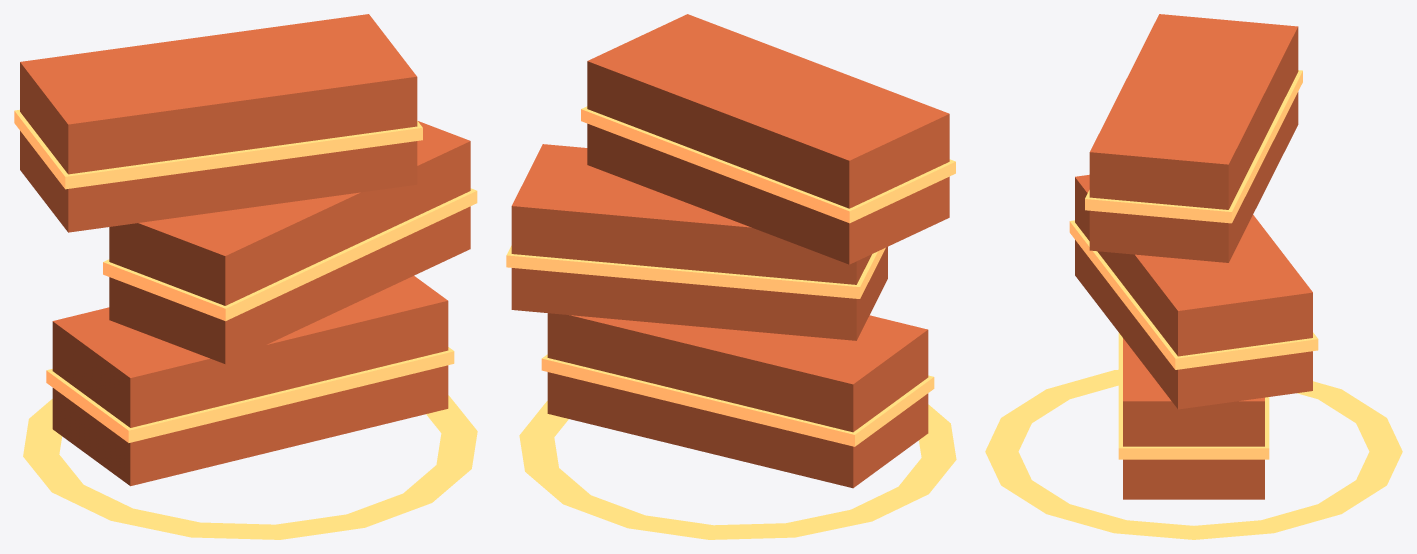
3 renders of one model, left to right at view 1: azimuth 30°, elevation 25°; view 2: azimuth 150°, elevation 25°; view 3: azimuth 270°, elevation 25°, orthographic. The views are drawn at different scales.
Parts seen in each view (by area): view 1: emblem_vertical.lod1; view 2: emblem_vertical.lod1; view 3: emblem_vertical.lod1.
Boxes of the visible parts, x1,y1,x2,y2 form: emblem_vertical.lod1: (14,14,477,539); emblem_vertical.lod1: (506,14,956,539); emblem_vertical.lod1: (985,14,1402,539).
Bounding box in the file's own units: 1.06 × 0.92 × 1.
